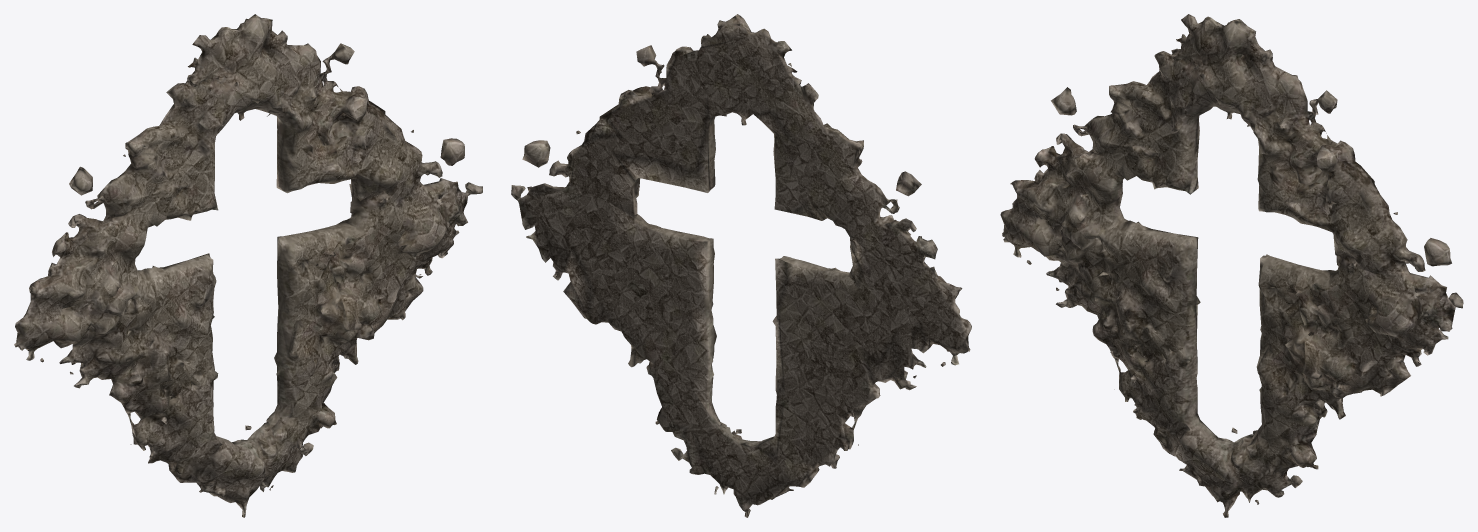
File: cruz-ceniza.glb
3 renders of one model, left to right at view 1: azimuth 30°, elevation 25°; view 2: azimuth 150°, elevation 25°; view 3: azimuth 330°, elevation 25°, orthographic.
Parts seen in each view (by area): view 1: Mesh_0; view 2: Mesh_0; view 3: Mesh_0.
Boxes of the visible parts, x1,y1,x2,y2 form: Mesh_0: (14, 14, 482, 517); Mesh_0: (511, 14, 971, 517); Mesh_0: (1000, 14, 1463, 517).
Size of the model in its own units: 0.1168 by 0.12 by 0.00773.
Materials: 1 (1 with a texture image).
